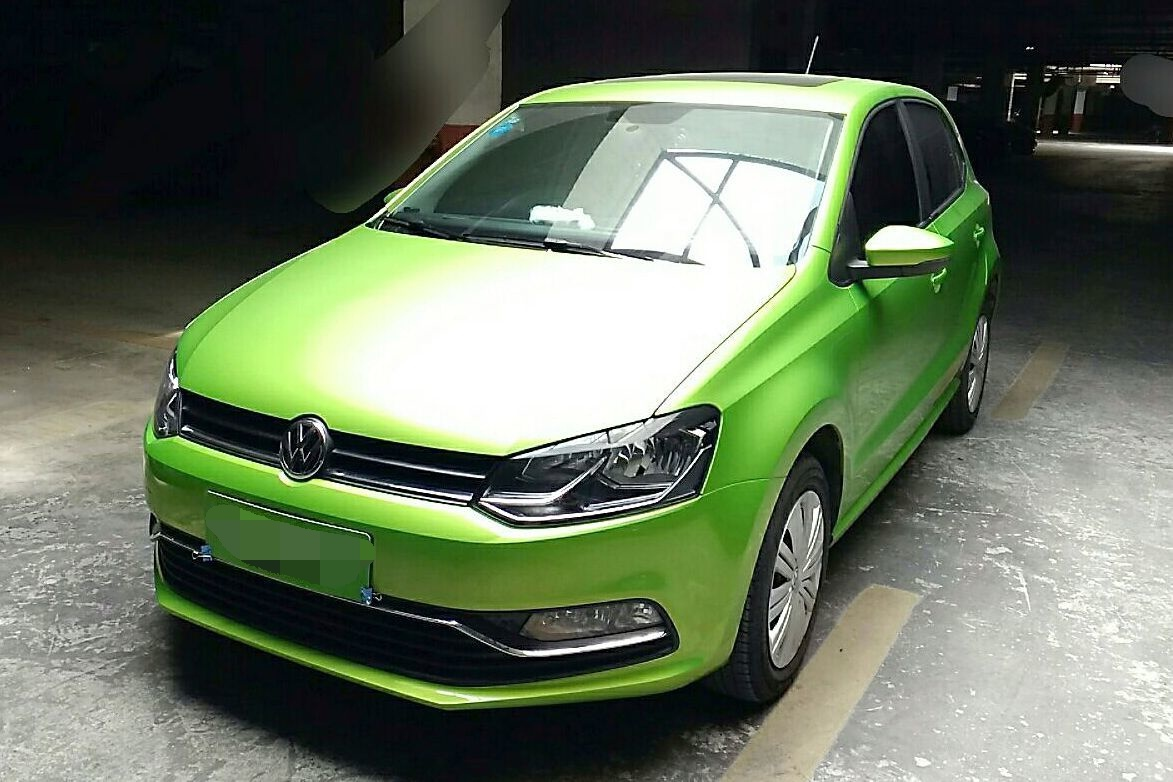family sedan: (153, 62, 1069, 732)
